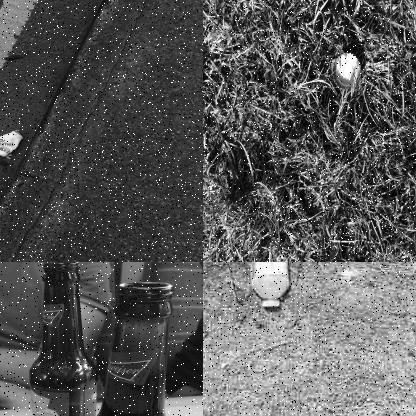glass: (69, 281, 191, 415), (27, 262, 102, 415)
metal: (0, 130, 30, 162)
plastic: (250, 262, 295, 314), (335, 54, 362, 88)
